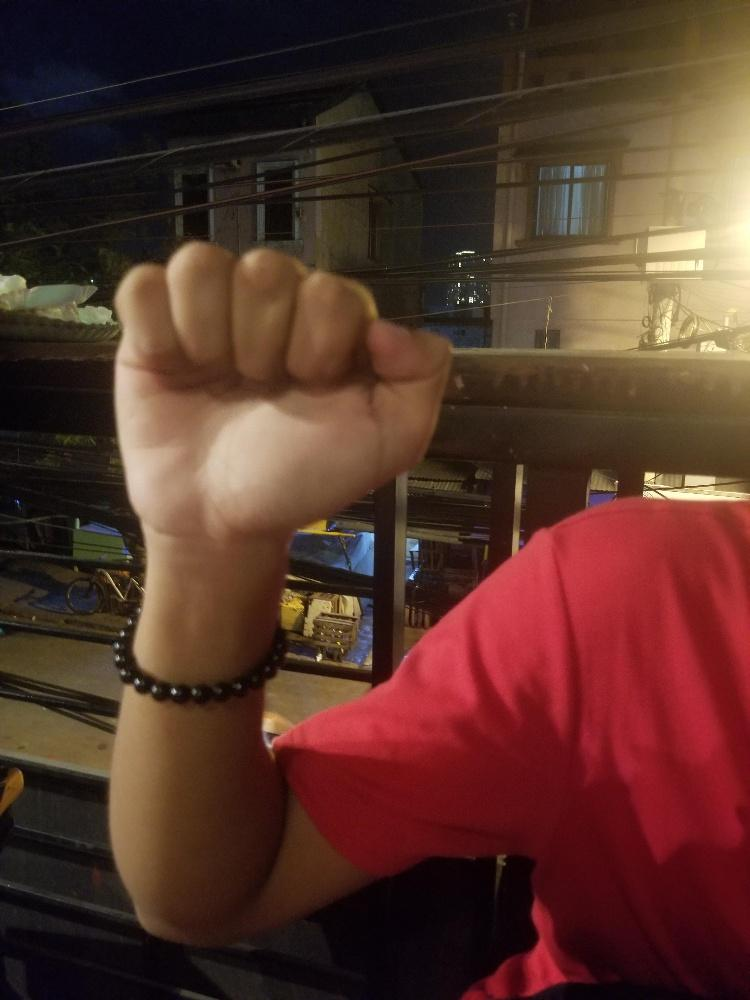a: (111, 238, 451, 534)
